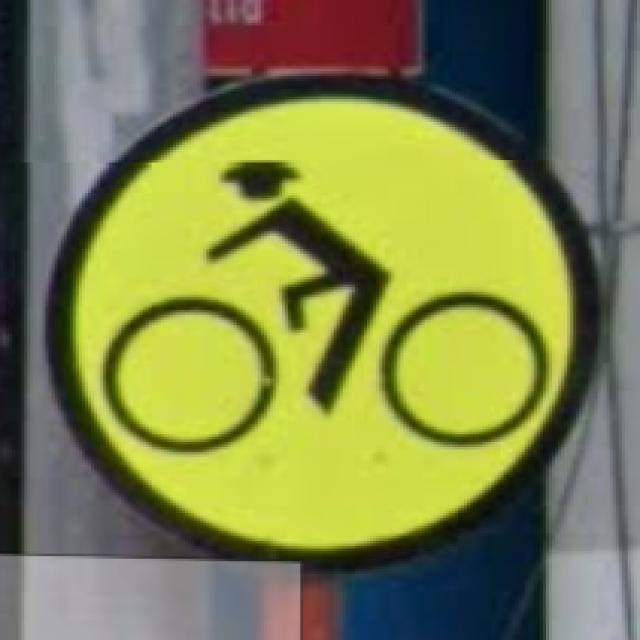bike lane: (43, 74, 601, 564)
